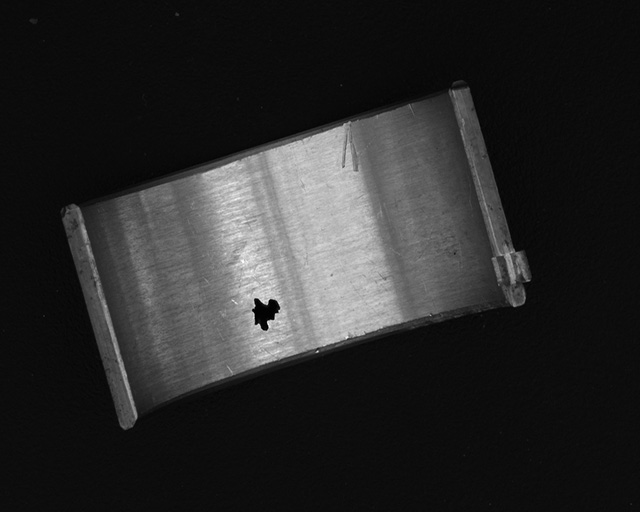blot: (250, 296, 281, 332)
nick: (340, 121, 361, 172), (408, 102, 416, 119)
